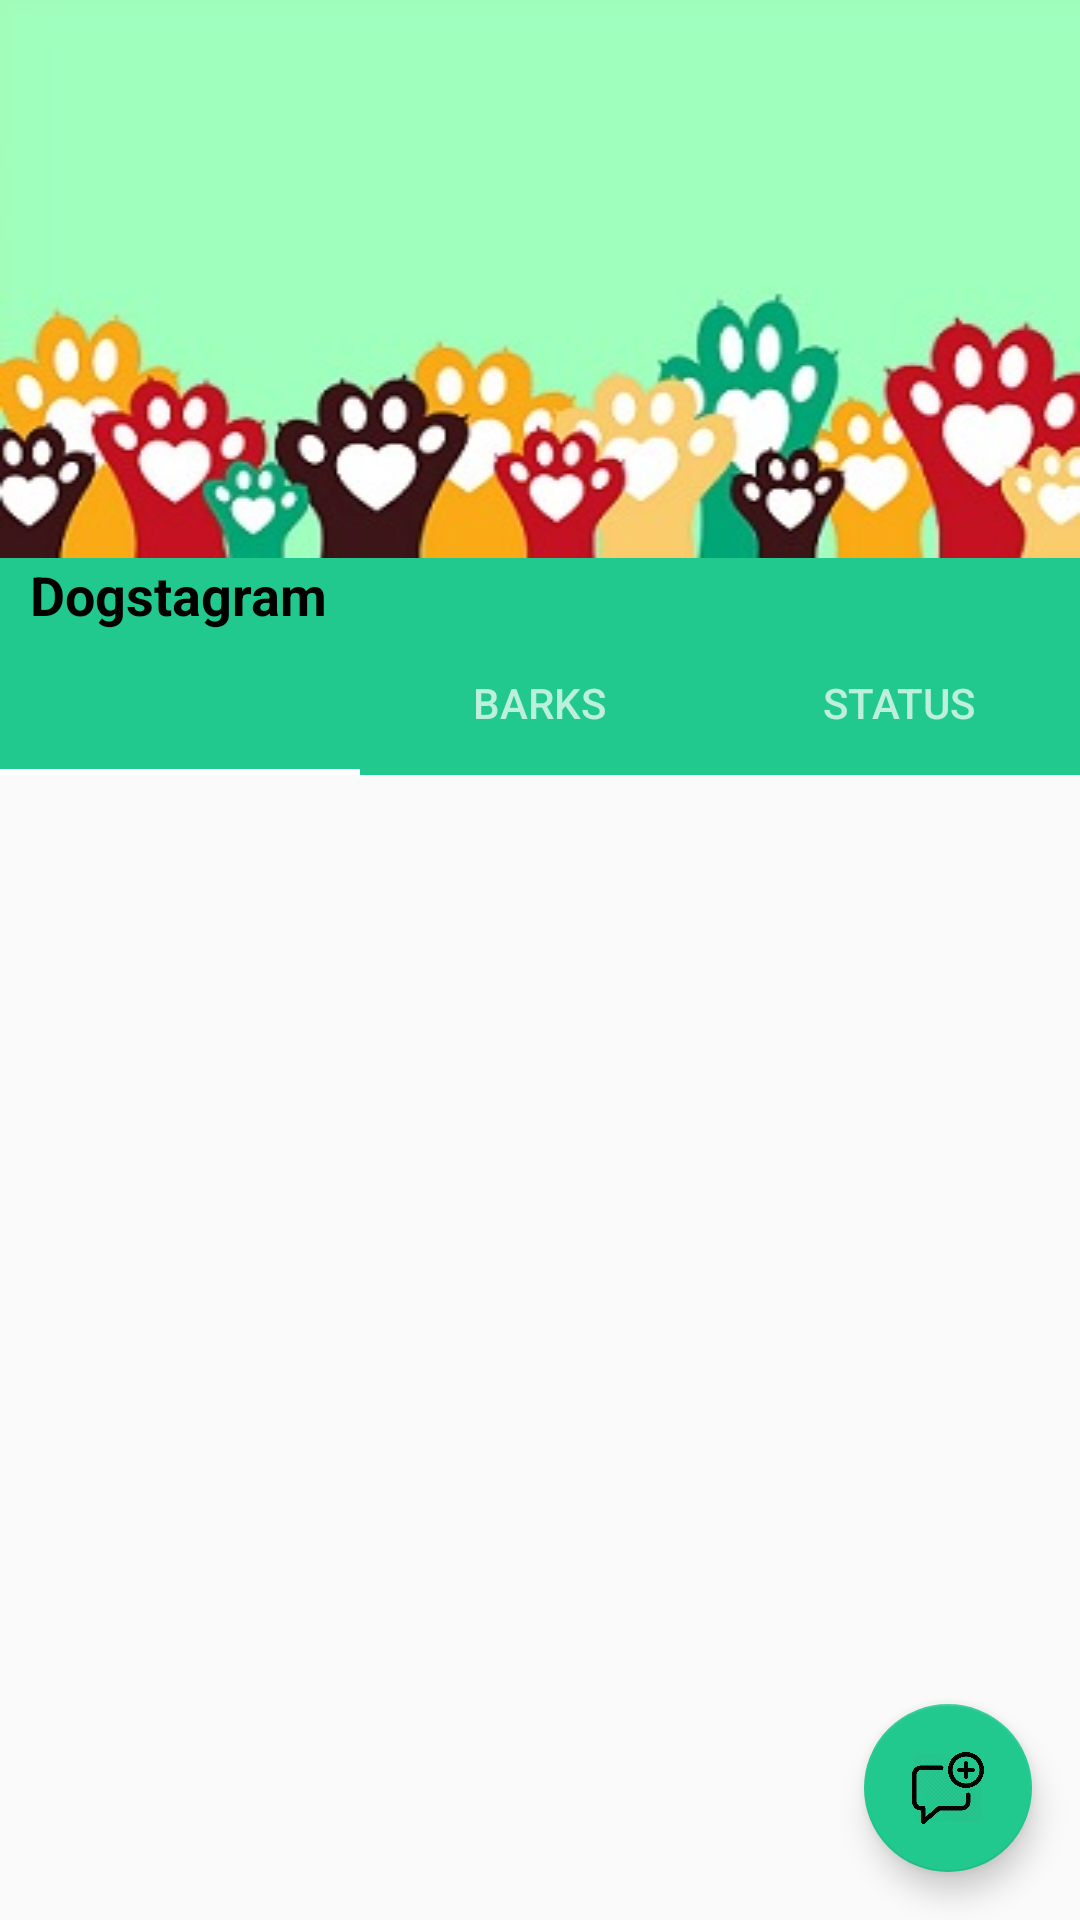

Named icons in this screenshot (1080*1920) and their centers, [x,y]:
chat: [948,1788]
